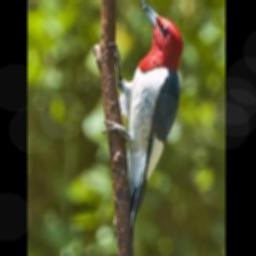Woodpecker: (103, 0, 184, 236)
